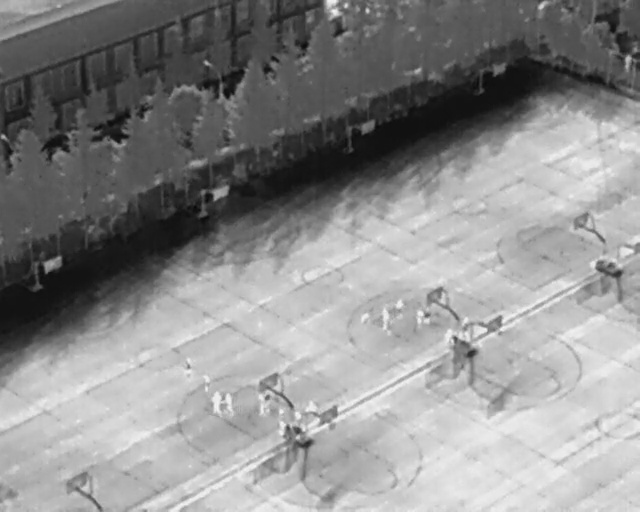Person: (225, 391, 235, 417), (212, 388, 221, 415), (381, 305, 390, 332), (257, 391, 266, 416), (277, 407, 286, 432), (185, 356, 193, 381), (397, 297, 405, 321), (361, 311, 372, 326), (264, 393, 271, 413), (203, 373, 210, 392), (415, 307, 422, 326), (424, 306, 431, 325)
